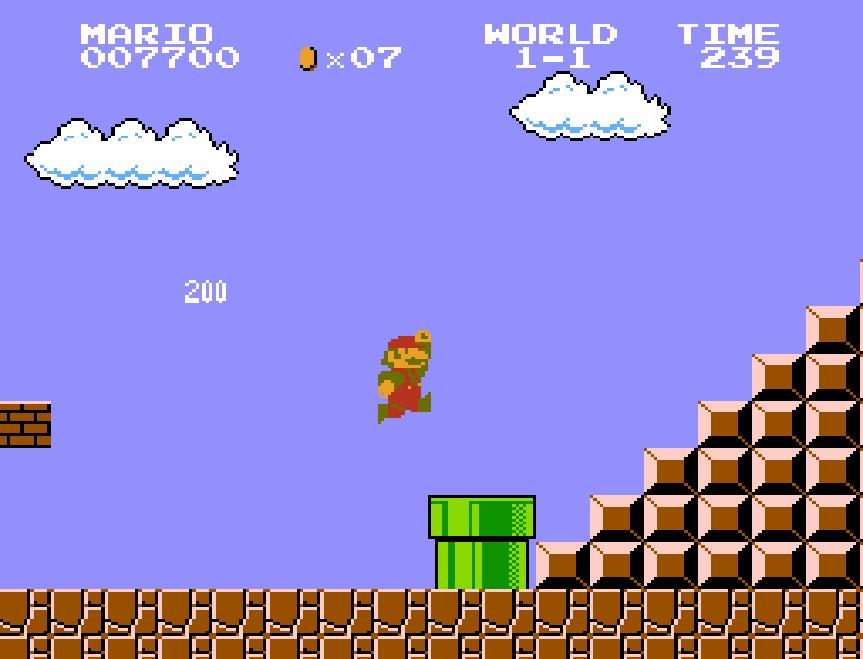big_mario: (376, 328, 434, 426)
